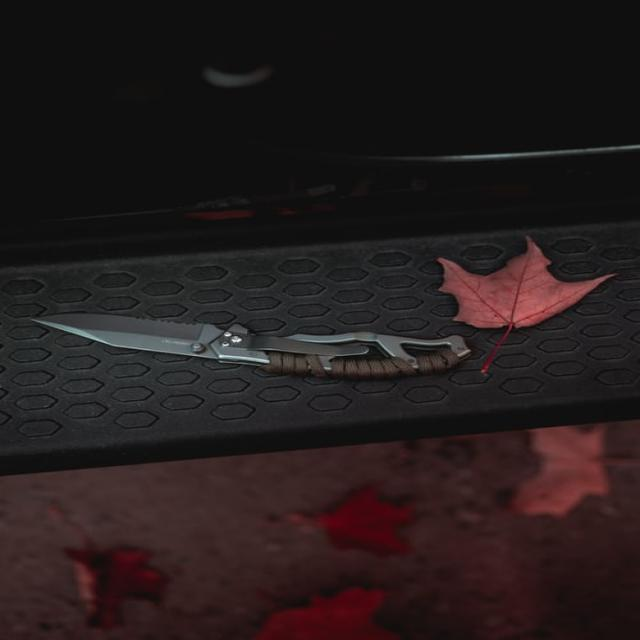faca: (35, 298, 492, 394)
